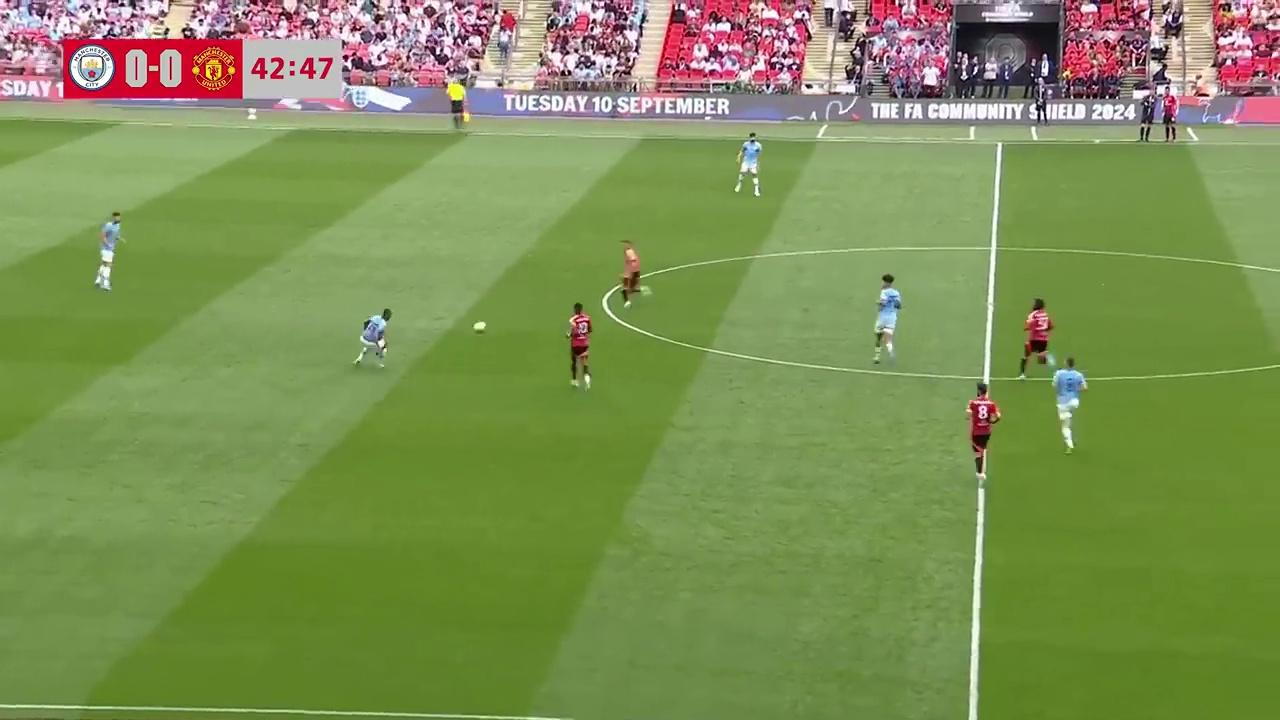ball: (471, 317, 487, 334)
player: (965, 382, 1002, 483), (1050, 355, 1087, 453), (1018, 298, 1054, 380), (873, 273, 902, 364), (94, 211, 125, 291), (353, 308, 393, 368), (566, 301, 592, 390), (617, 240, 648, 308), (734, 131, 764, 196)
referee: (447, 81, 470, 131)
